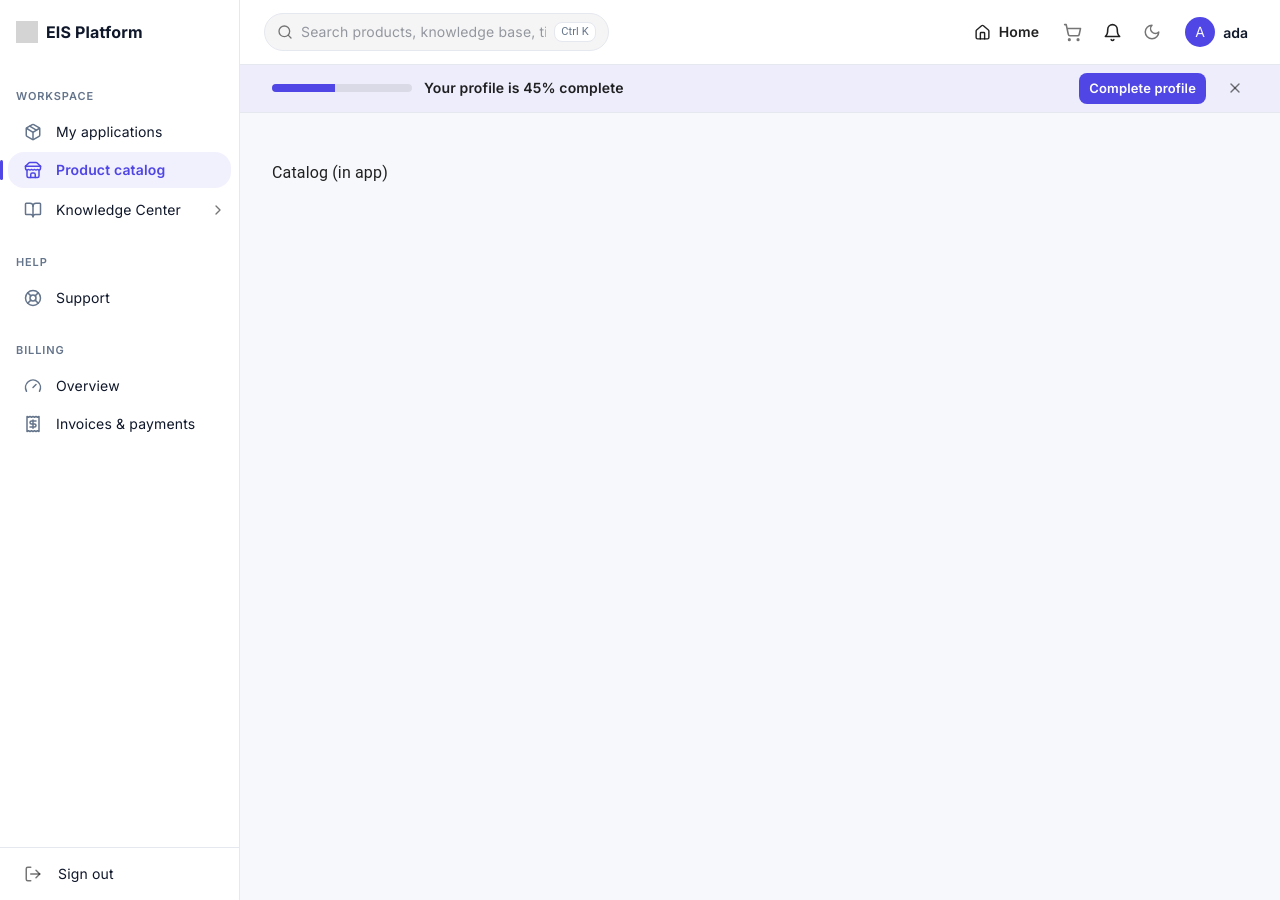
My profile in the shell (C107) › opens My profile when the avatar and name block in the menu is clicked, and shows the email line
Click the button with aria-label "Account menu for ada".
click(1217, 32)  # box [1177,9,1256,55]
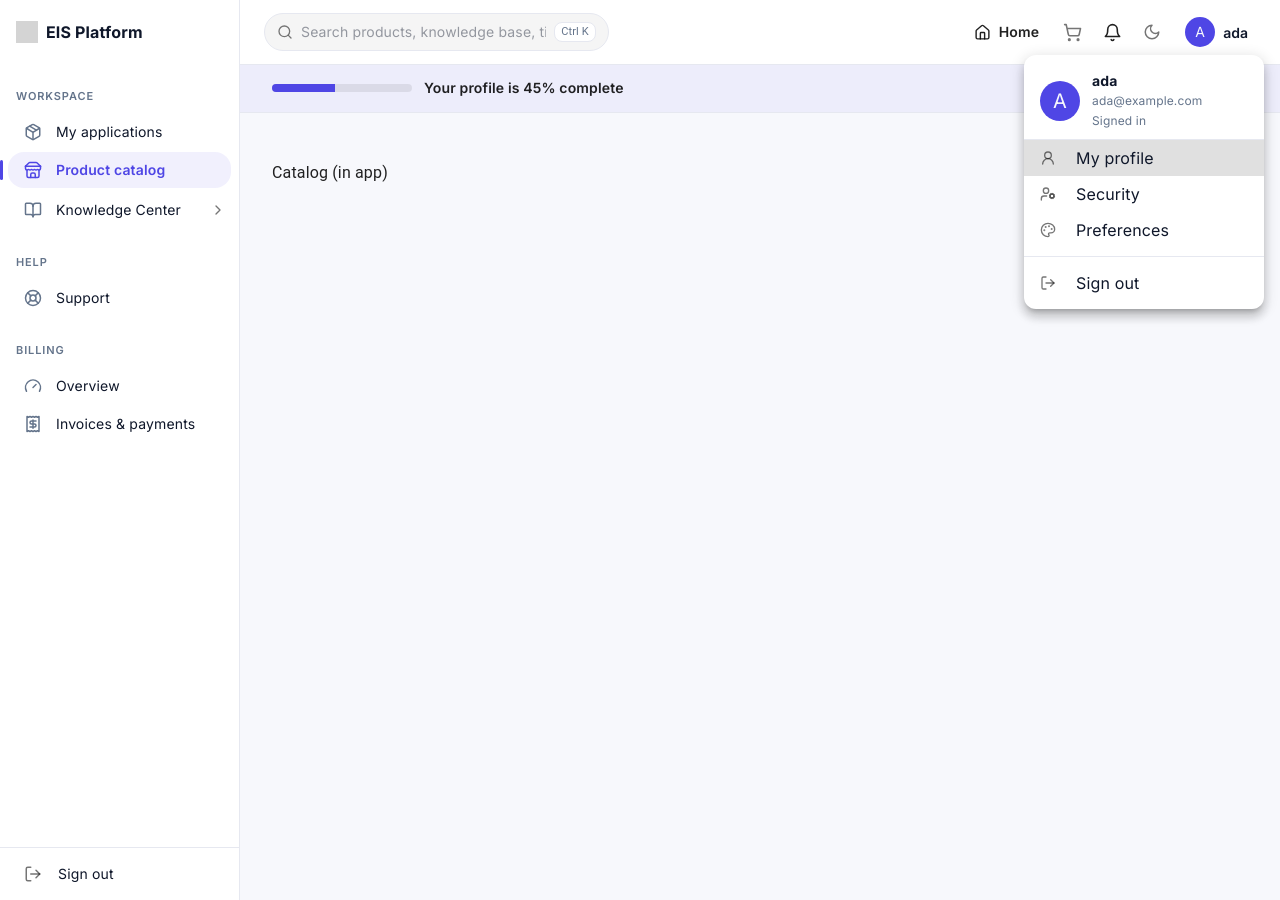
Now the text "ada@example.com" is shown, box [1092,91,1202,111]
Click the text "ada".
click(1105, 80)  # box [1092,72,1118,89]
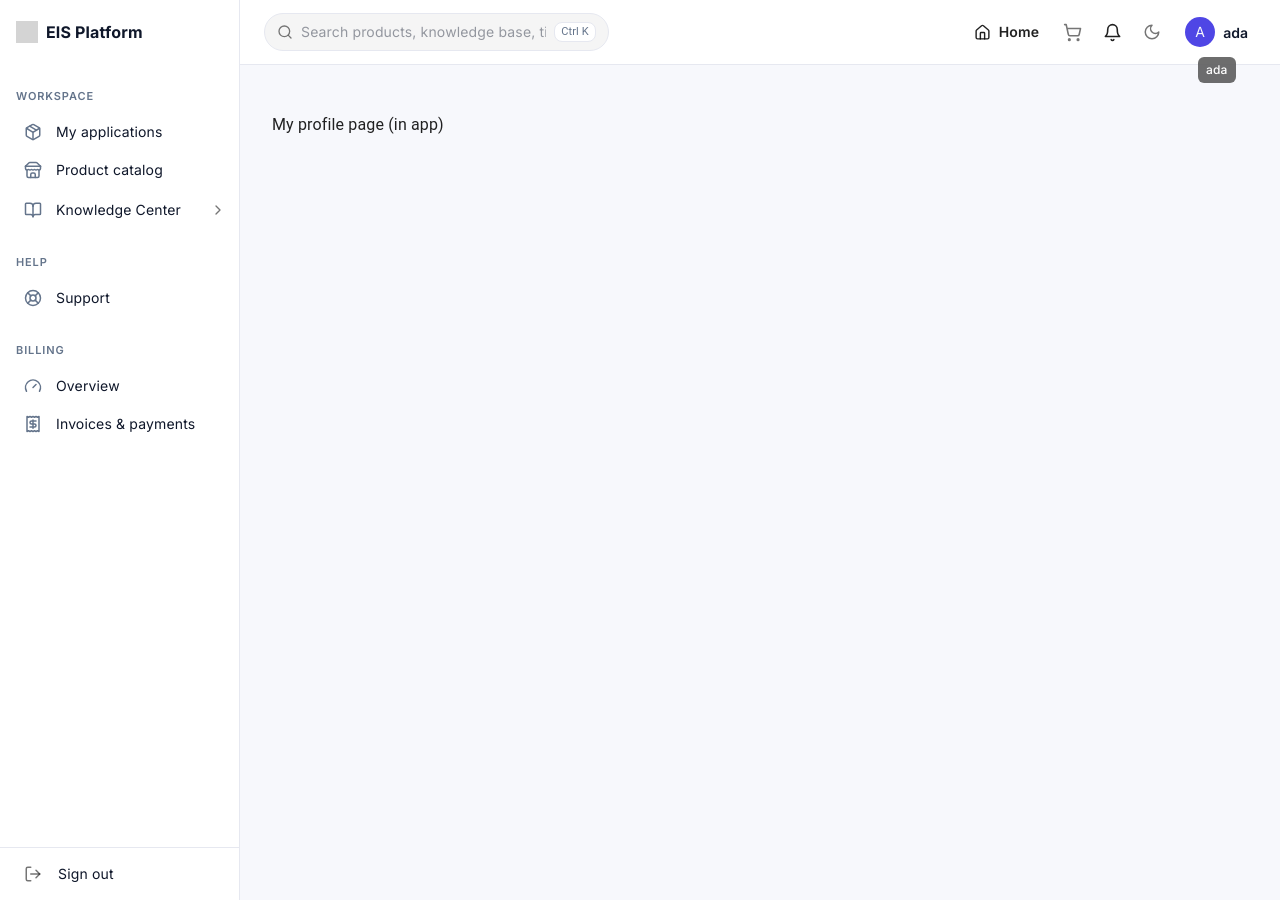
Now the text "My profile page (in app)" is shown, box [272,115,444,134]
